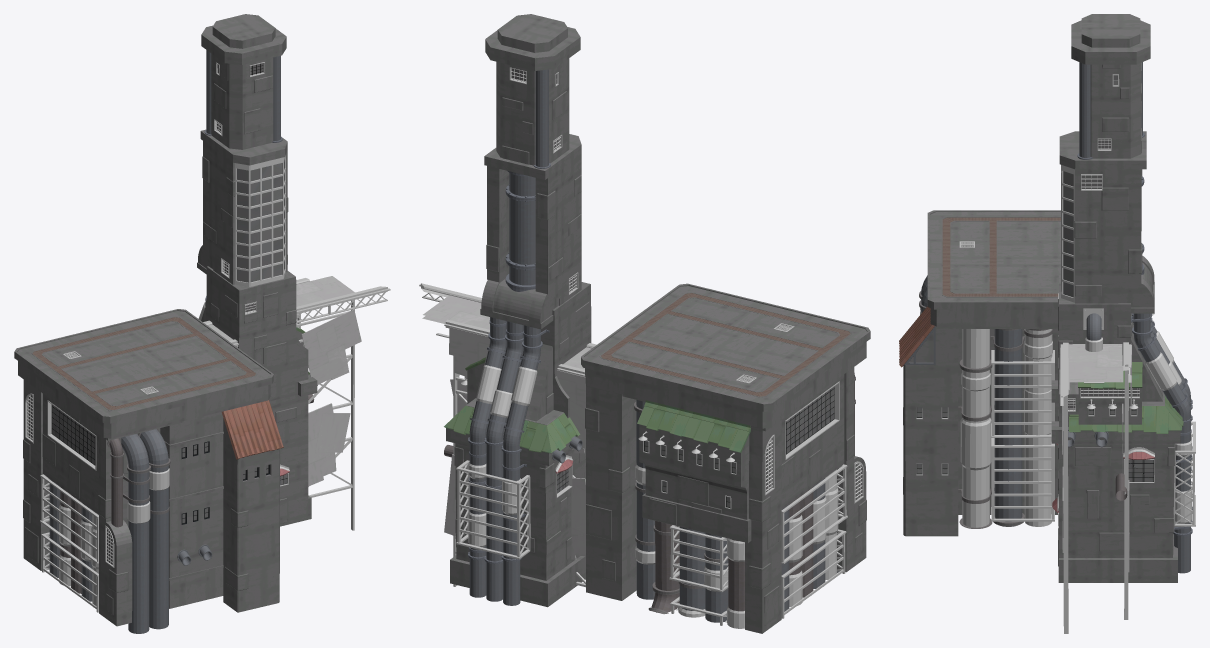
Rendered from AreaH_Building_Ab.fbx.
3 views of the same model, side by side, from view 1: azimuth 30°, elevation 25°; view 2: azimuth 150°, elevation 25°; view 3: azimuth 270°, elevation 25° (orthographic). The views are drawn at different scales.
Parts seen in each view (by area): view 1: SM_ENV_AMVLLG02_AreaH_Building_Ab.mo; view 2: SM_ENV_AMVLLG02_AreaH_Building_Ab.mo; view 3: SM_ENV_AMVLLG02_AreaH_Building_Ab.mo.
Part boxes in pixels (box(x1,y1,x2,y2)): SM_ENV_AMVLLG02_AreaH_Building_Ab.mo: box(14, 14, 390, 633); SM_ENV_AMVLLG02_AreaH_Building_Ab.mo: box(419, 14, 870, 633); SM_ENV_AMVLLG02_AreaH_Building_Ab.mo: box(899, 14, 1195, 633).
Size of the model in its own units: 3787 by 5334 by 2563.
